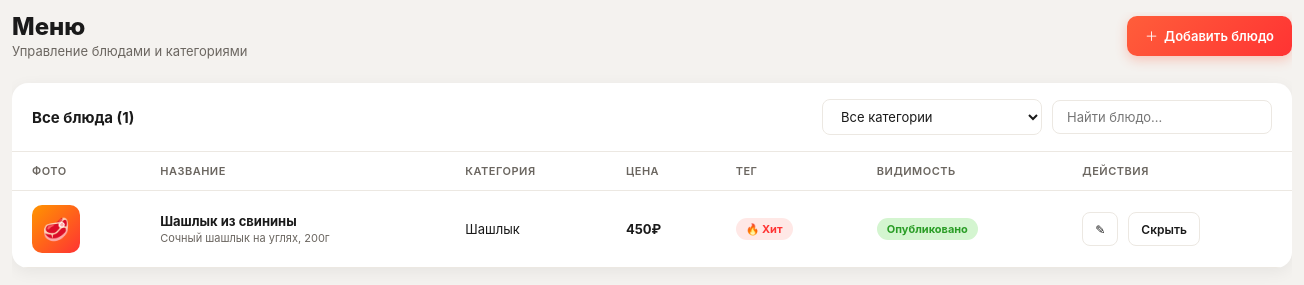
Test: Admin catalog screen › loads products and refreshes after hiding one
The width and height of the screenshot is (1304, 285).
Click the button "Скрыть" at point(1164, 229), box x1=1128 y1=212 x2=1200 y2=246
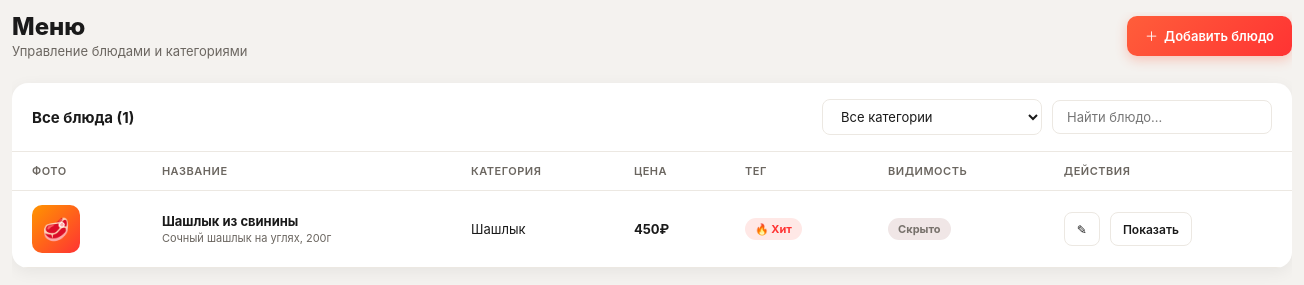
Expected: the text "Скрыто" is shown, x1=888 y1=218 x2=951 y2=240
Expected: the text "Показать" is shown, x1=1110 y1=212 x2=1192 y2=246
